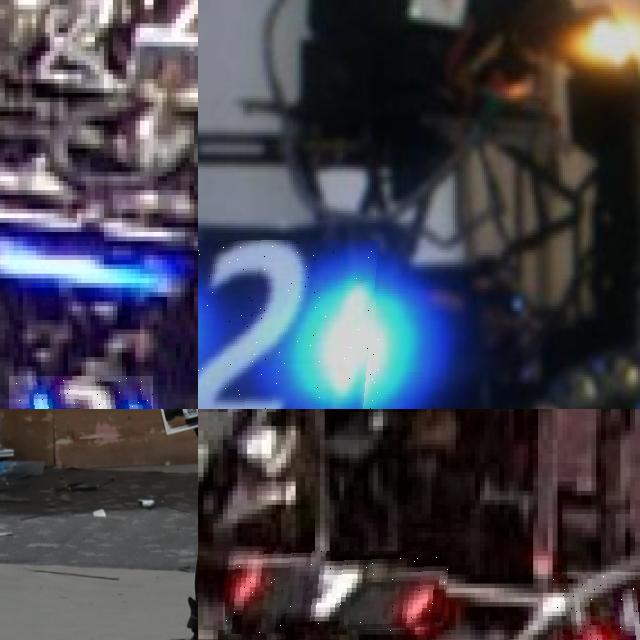B2: (198, 240, 380, 409), (9, 376, 153, 409)
R1: (226, 551, 454, 635), (552, 572, 640, 640)
